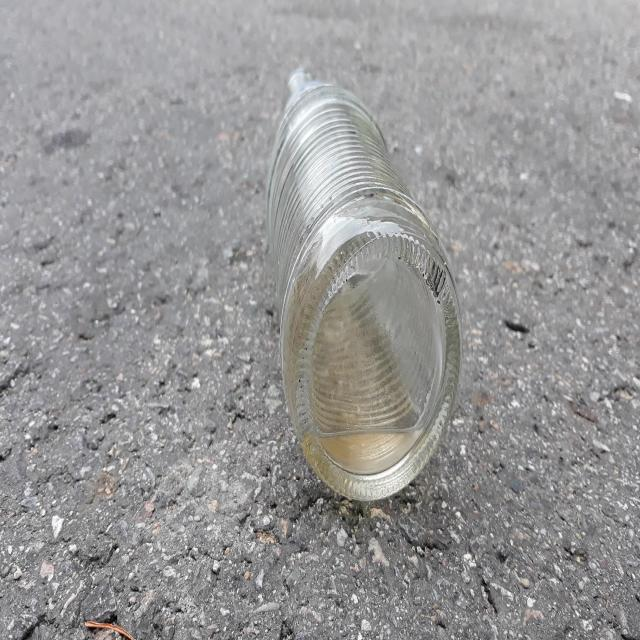glass: (267, 69, 462, 501)
